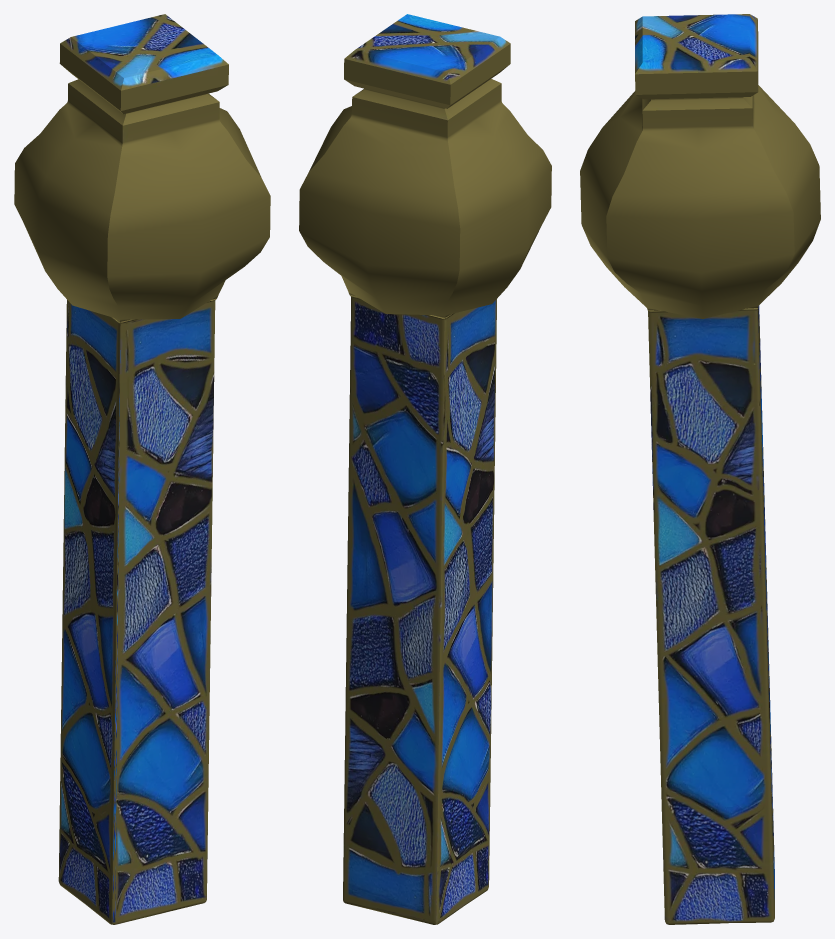
Rendered from leverHandle_lowPoly.glb.
3 views of the same model, side by side, from view 1: azimuth 30°, elevation 25°; view 2: azimuth 150°, elevation 25°; view 3: azimuth 270°, elevation 25° (orthographic). The views are drawn at different scales.
Parts seen in each view (by area): view 1: Mesh_1.001; view 2: Mesh_1.001; view 3: Mesh_1.001.
Boxes of the visible parts, x1,y1,x2,y2 form: Mesh_1.001: (14,14,270,924); Mesh_1.001: (299,14,551,924); Mesh_1.001: (580,14,820,924).
Size of the model in its own units: 0.206 by 0.8118 by 0.205.
Materials: 1 (1 with a texture image).
